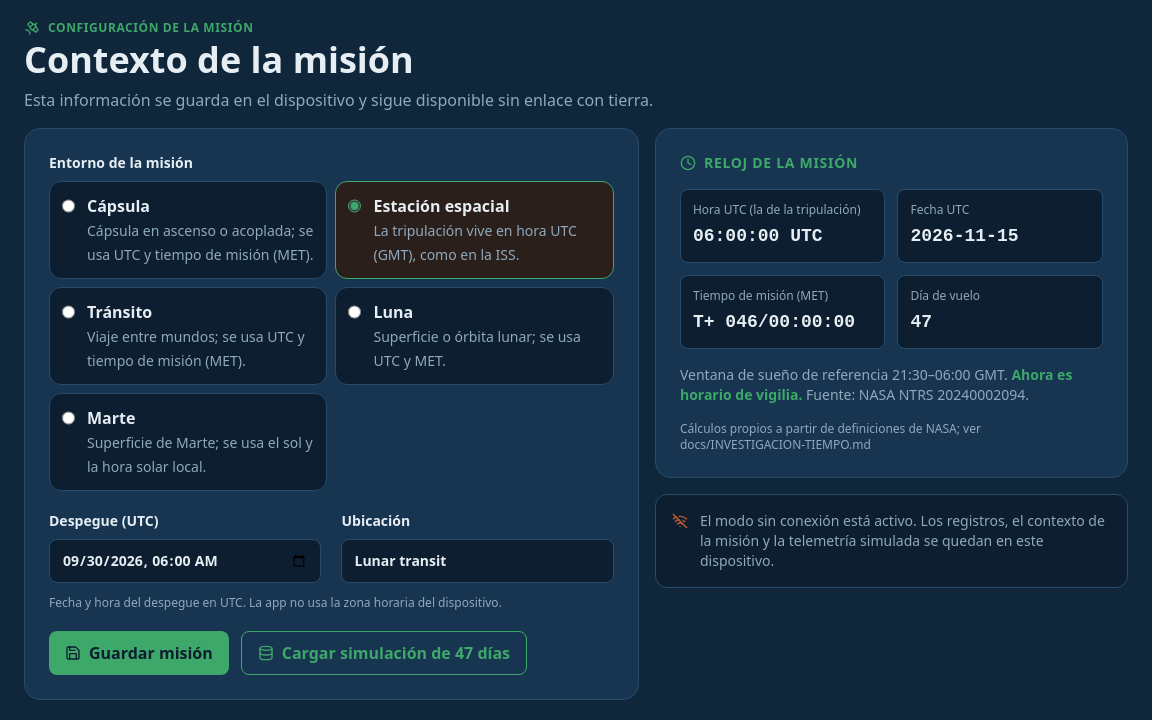
Scenario: pantallas › Misión guarda el día y se muestra en español
Expected: the heading "Contexto de la misión" is shown, [24, 35, 414, 84]
Click the button "Guardar misión".
click(139, 653)  # box [49, 631, 229, 675]
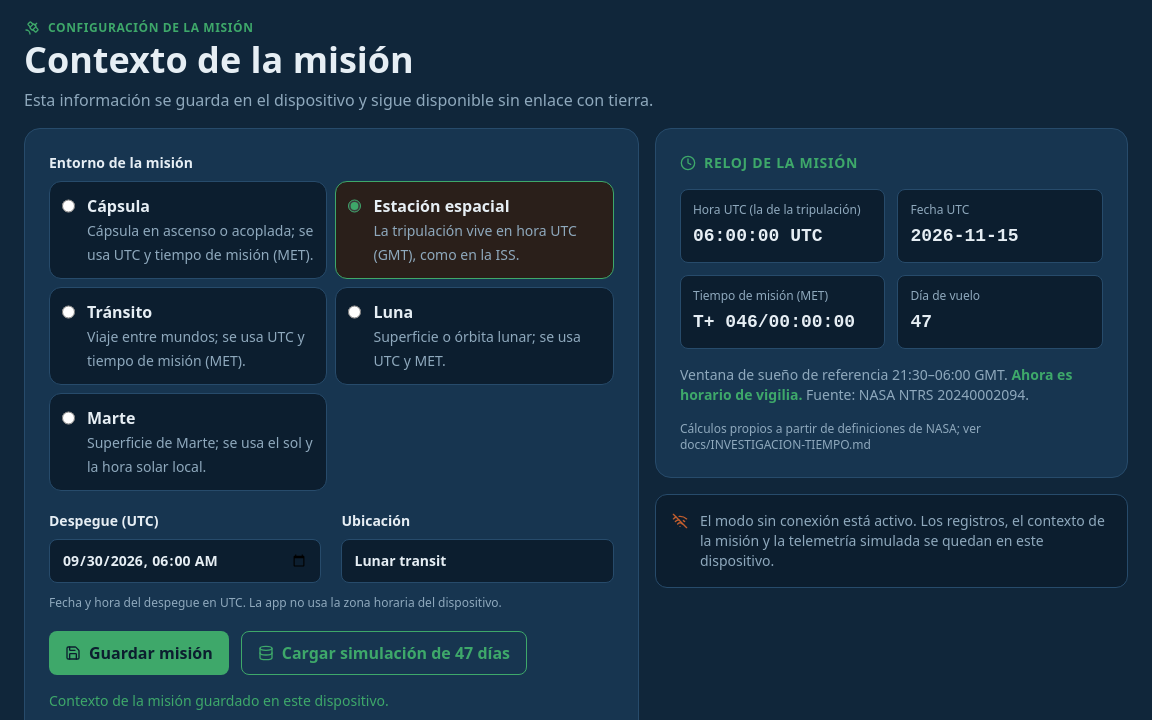
Now the message shows "guardado", box [49, 691, 389, 710]
